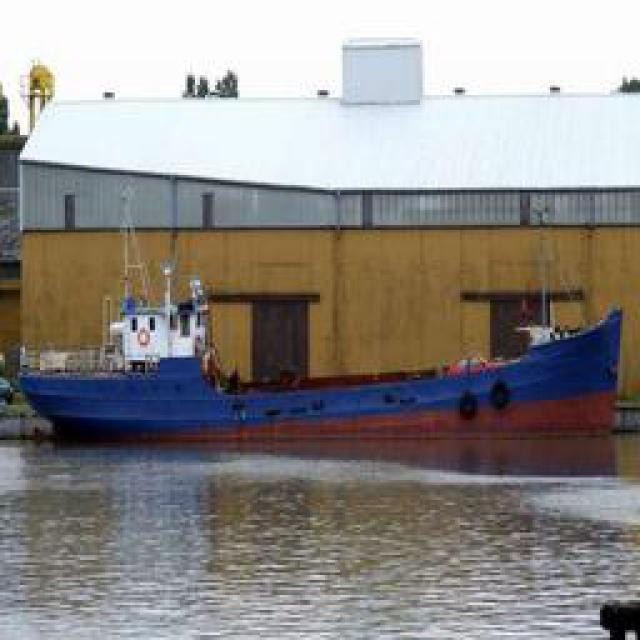Ship: (9, 302, 632, 450)
